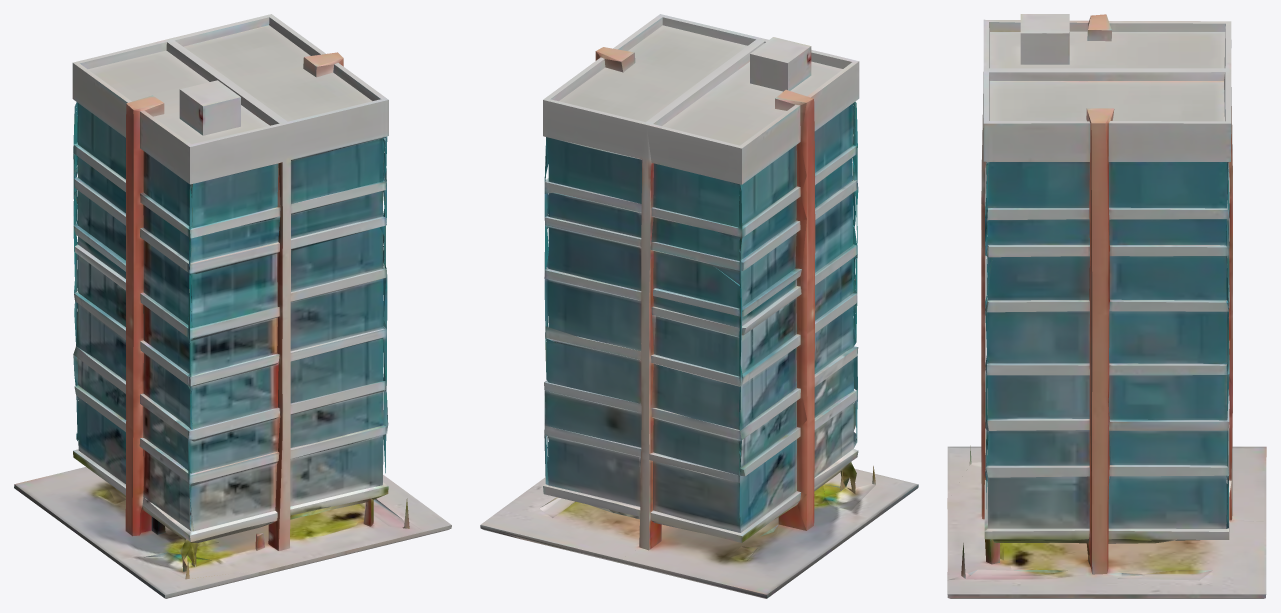
Rendered from cityBuildingTall.glb.
The picture shows the model from 3 angles, left to right: view 1: azimuth 30°, elevation 25°; view 2: azimuth 150°, elevation 25°; view 3: azimuth 270°, elevation 25°; orthographic projection. The views are drawn at different scales.
Visible parts, largest first — view 1: model; view 2: model; view 3: model.
Boxes of the visible parts, box(x1,y1,x2,y2) form: model: box(14, 14, 451, 598); model: box(480, 14, 918, 598); model: box(947, 14, 1266, 598).
Size of the model in its own units: 1.26 by 1.89 by 1.15.
1 material, 1 textured.
